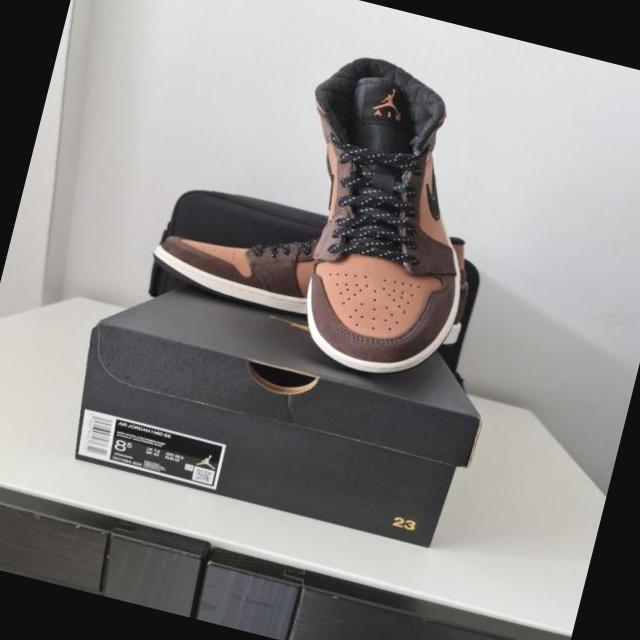nike_original_jordan: (250, 42, 536, 396)
